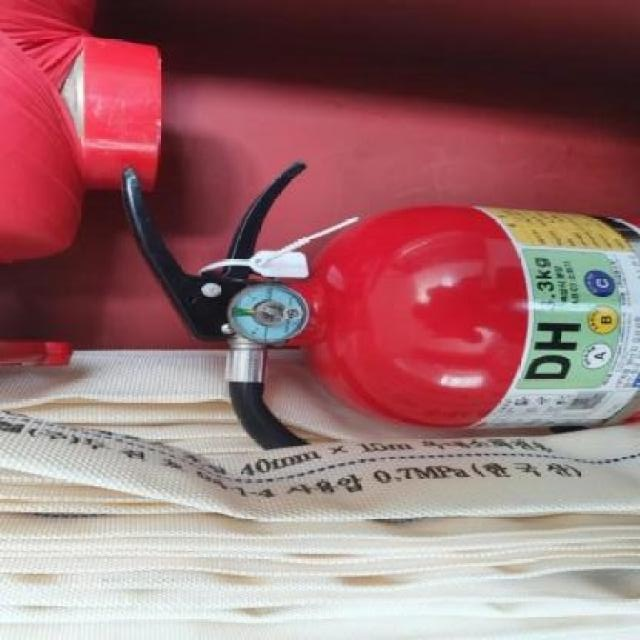fire extinguisher: (120, 159, 640, 452)
